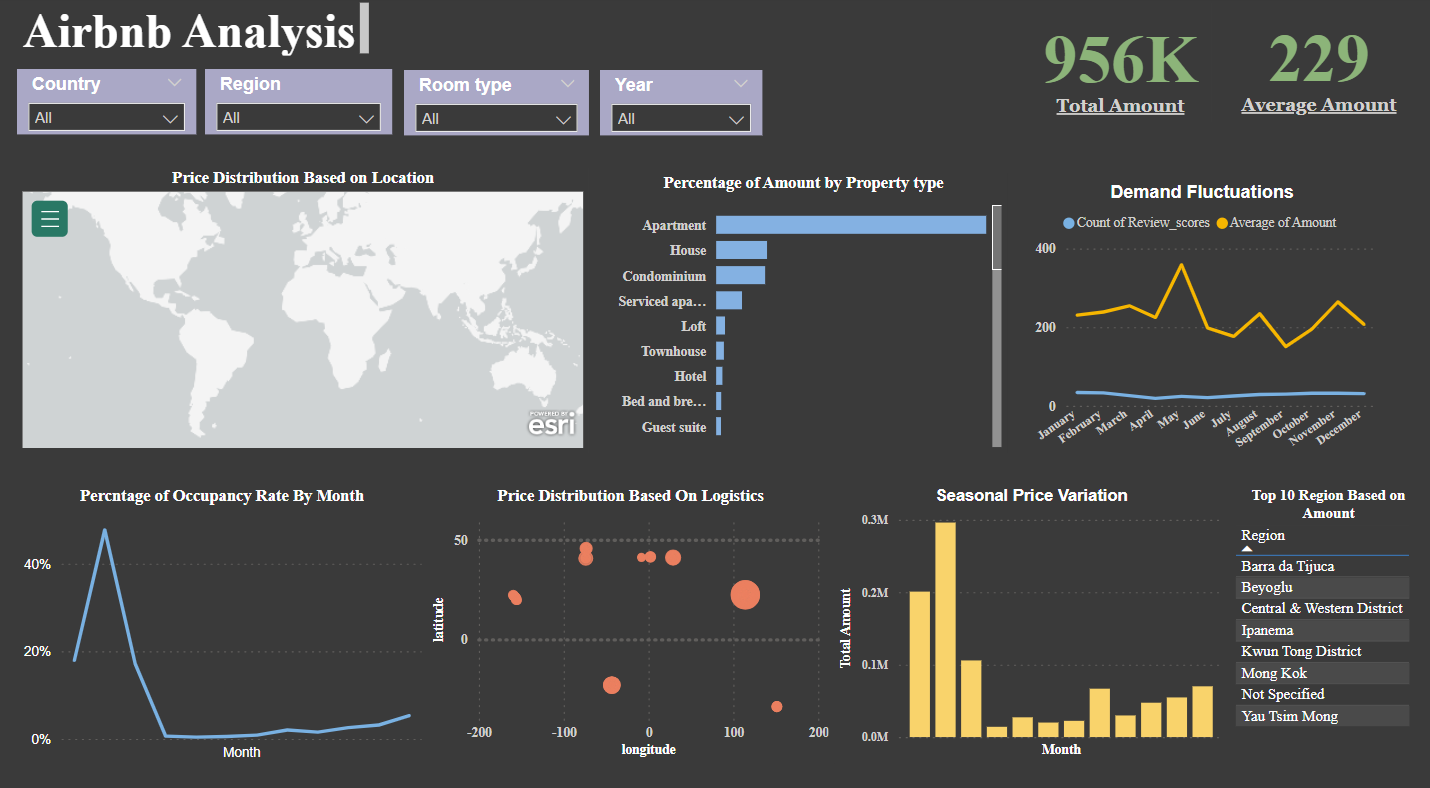

The dashboard page shown, as its layout file describes it:
{"tool":"powerbi","page":{"name":"price analysis","canvas":[1280,720],"ordinal":0},"visuals":[{"type":"slicer","fields":{"Values":["data.Room_type"]},"box":[359.1,64.7,164,57.6],"z":0},{"type":"slicer","fields":{"Values":["data.Region"]},"box":[182.7,63.8,165.8,57.6],"z":1000},{"type":"slicer","fields":{"Values":["data.Country"]},"box":[16.1,63.6,158.5,58.2],"z":2000},{"type":"card","fields":{"Values":["data.Total Amount"]},"box":[913.3,5.3,162.3,106.4],"z":3000},{"type":"card","fields":{"Values":["data.Average Amount"]},"box":[1090.6,5.3,159.6,104.6],"z":4000},{"type":"lineChart","title":"Percntage of Occupancy Rate By Month","fields":{"Category":["data.Date.Variation.Date Hierarchy.Month"],"Y":["Divide(Sum(data.Number_of_reviews), ScopedEval(Sum(data.Number_of_reviews), []))"]},"box":[16,433.6,363.5,248.3],"z":5000},{"type":"slicer","fields":{"Values":["data.Date.Variation.Date Hierarchy.Year"]},"box":[532.9,64.7,143.6,57.6],"z":6000},{"type":"clusteredBarChart","title":"Percentage of Amount by Property type","fields":{"Category":["data.Property_type"],"Y":["data.Total Amount"]},"box":[532.9,156.1,360.9,248.3],"z":7000},{"type":"esriVisual","title":"Price Distribution Based on Location","fields":{"Size":["data.Total Amount"],"Latitude":["data.latitude"],"Longitude":["data.longitude"]},"box":[16,151.6,507.2,252.7],"z":8000},{"type":"scatterChart","title":"Price Distribution Based On Logistics","fields":{"Y":["data.latitude"],"X":["data.longitude"],"Size":["data.Total Amount"]},"box":[379.5,433.6,360.9,245.6],"z":9000},{"type":"lineChart","title":"Demand Fluctuations","fields":{"Category":["data.Date.Variation.Date Hierarchy.Month"],"Y":["Count(data.Review_scores)","Avg(data.Amount)"]},"box":[908.9,164,315.7,246.5],"z":10000},{"type":"columnChart","title":"Seasonal Price Variation","fields":{"Category":["data.Date.Variation.Date Hierarchy.Month"],"Y":["data.Total Amount"]},"box":[740.4,433.6,350.2,245.6],"z":10001},{"type":"textbox","box":[16,0,316.6,56.7],"z":10002},{"type":"tableEx","title":"Top 10 Region Based on Amount","fields":{"Values":["data.Region"]},"box":[1090.6,433.6,176.5,248.3],"z":10003}]}

Visuals, with their boxes in screenshot pixels (x1, y1, x2, y2), scaled from the page's 1280x720 canvas onto the 1430x788 screenshot:
slicer - data.Room_type: rect(401, 71, 584, 134)
slicer - data.Region: rect(204, 70, 389, 133)
slicer - data.Country: rect(18, 70, 195, 133)
card - data.Total Amount: rect(1020, 6, 1202, 122)
card - data.Average Amount: rect(1218, 6, 1397, 120)
"Percntage of Occupancy Rate By Month" lineChart: rect(18, 475, 424, 746)
slicer - data.Date.Variation.Date Hierarchy.Year: rect(595, 71, 756, 134)
"Percentage of Amount by Property type" clusteredBarChart: rect(595, 171, 999, 443)
"Price Distribution Based on Location" esriVisual: rect(18, 166, 585, 442)
"Price Distribution Based On Logistics" scatterChart: rect(424, 475, 827, 743)
"Demand Fluctuations" lineChart: rect(1015, 179, 1368, 449)
"Seasonal Price Variation" columnChart: rect(827, 475, 1218, 743)
textbox: rect(18, 0, 372, 62)
"Top 10 Region Based on Amount" tableEx: rect(1218, 475, 1416, 746)
